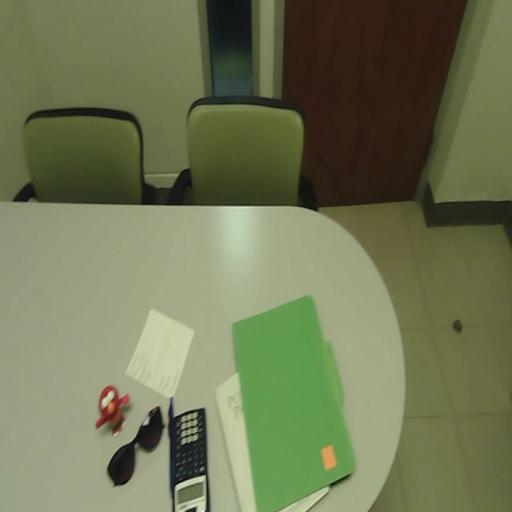pen: (168, 397, 176, 492)
